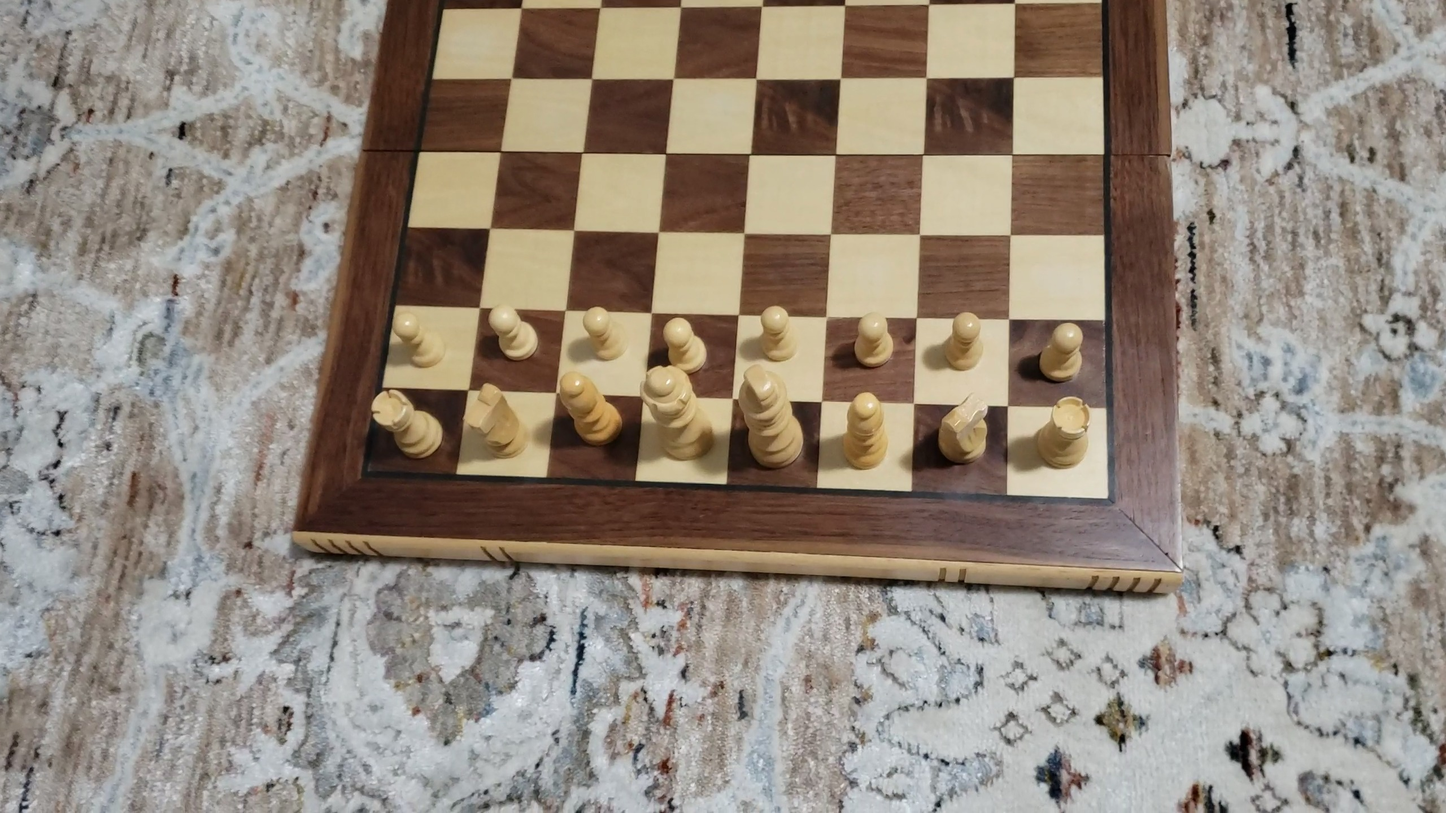white-bishop: (556, 370, 624, 449), (838, 388, 894, 475)
white-king: (738, 365, 807, 472)
white-knight: (464, 379, 529, 461), (930, 389, 992, 469)
white-pawn: (387, 307, 450, 372), (1033, 318, 1088, 387), (485, 301, 542, 364), (941, 305, 990, 375), (659, 313, 709, 377), (849, 307, 896, 371), (579, 301, 625, 364), (755, 301, 799, 365)
white-queen: (635, 364, 723, 469)
white-rook: (371, 388, 444, 461), (1034, 392, 1097, 471)
